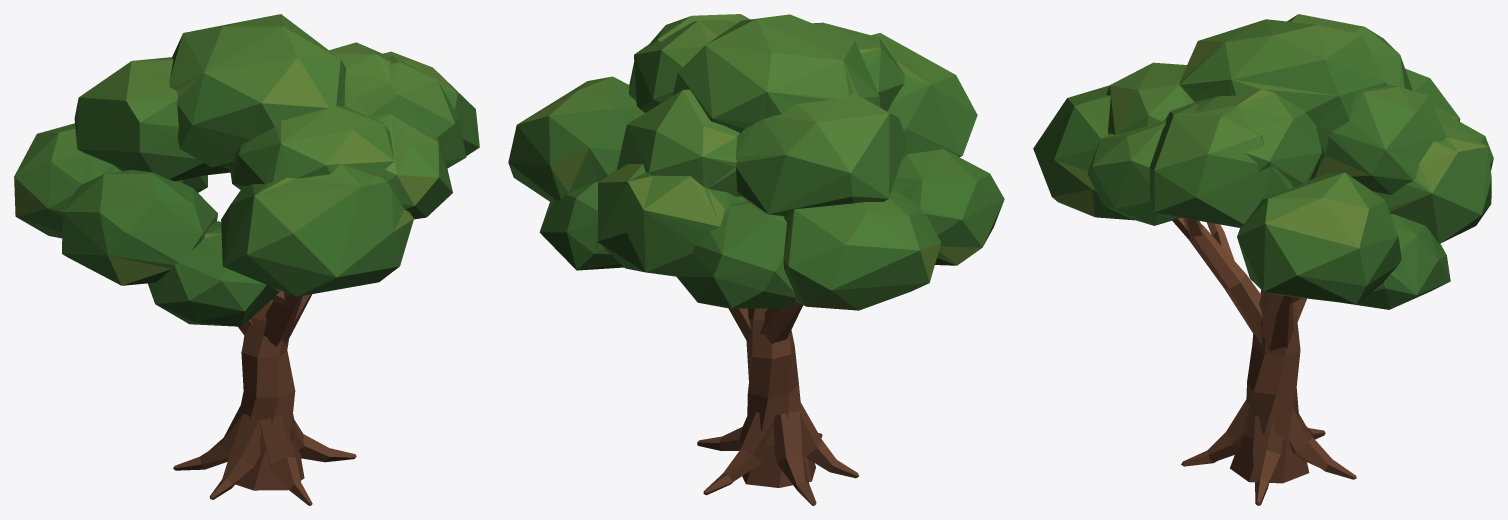
File: zenscape-hero-oak.glb
3 renders of one model, left to right at view 1: azimuth 30°, elevation 25°; view 2: azimuth 150°, elevation 25°; view 3: azimuth 270°, elevation 25°, orthographic.
Visible parts, largest first — view 1: Leaves, Bark; view 2: Leaves, Bark; view 3: Leaves, Bark.
Boxes of the visible parts, x1=… form: Leaves: x1=14, y1=14, x2=479, y2=326; Bark: x1=173, y1=290, x2=356, y2=505; Leaves: x1=508, y1=14, x2=1004, y2=310; Bark: x1=697, y1=301, x2=858, y2=505; Leaves: x1=1033, y1=14, x2=1493, y2=309; Bark: x1=1172, y1=217, x2=1356, y2=505.
Size of the model in its own units: 5.25 by 5.23 by 4.94.
